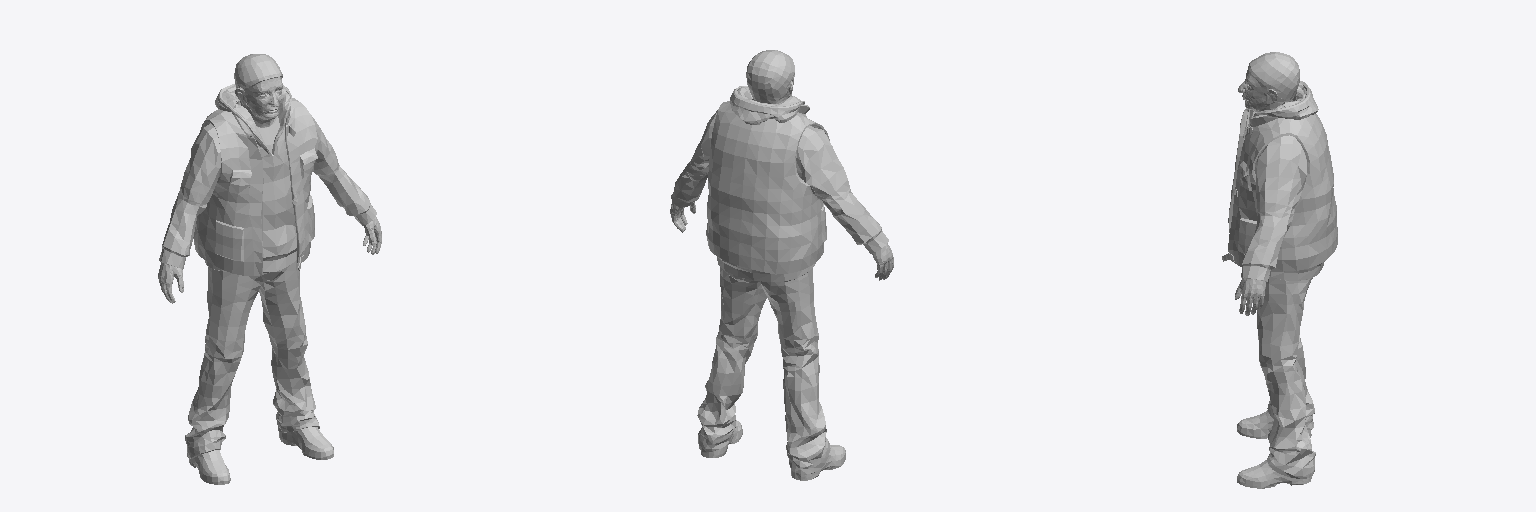
Rendered from muro.obj.
3 views of the same model, side by side, from view 1: azimuth 30°, elevation 25°; view 2: azimuth 150°, elevation 25°; view 3: azimuth 270°, elevation 25° (orthographic).
Parts seen in each view (by area): view 1: muro_main_Mesh.001, muro_head_Mesh; view 2: muro_main_Mesh.001, muro_head_Mesh; view 3: muro_main_Mesh.001, muro_head_Mesh.
Boxes of the visible parts, x1,y1,x2,y2 form: muro_main_Mesh.001: [158, 84, 381, 484]; muro_head_Mesh: [234, 54, 282, 127]; muro_main_Mesh.001: [670, 86, 893, 480]; muro_head_Mesh: [746, 50, 794, 105]; muro_main_Mesh.001: [1222, 81, 1337, 488]; muro_head_Mesh: [1238, 52, 1299, 111].
Bounding box in the file's own units: 1.02 × 1.81 × 0.4691.